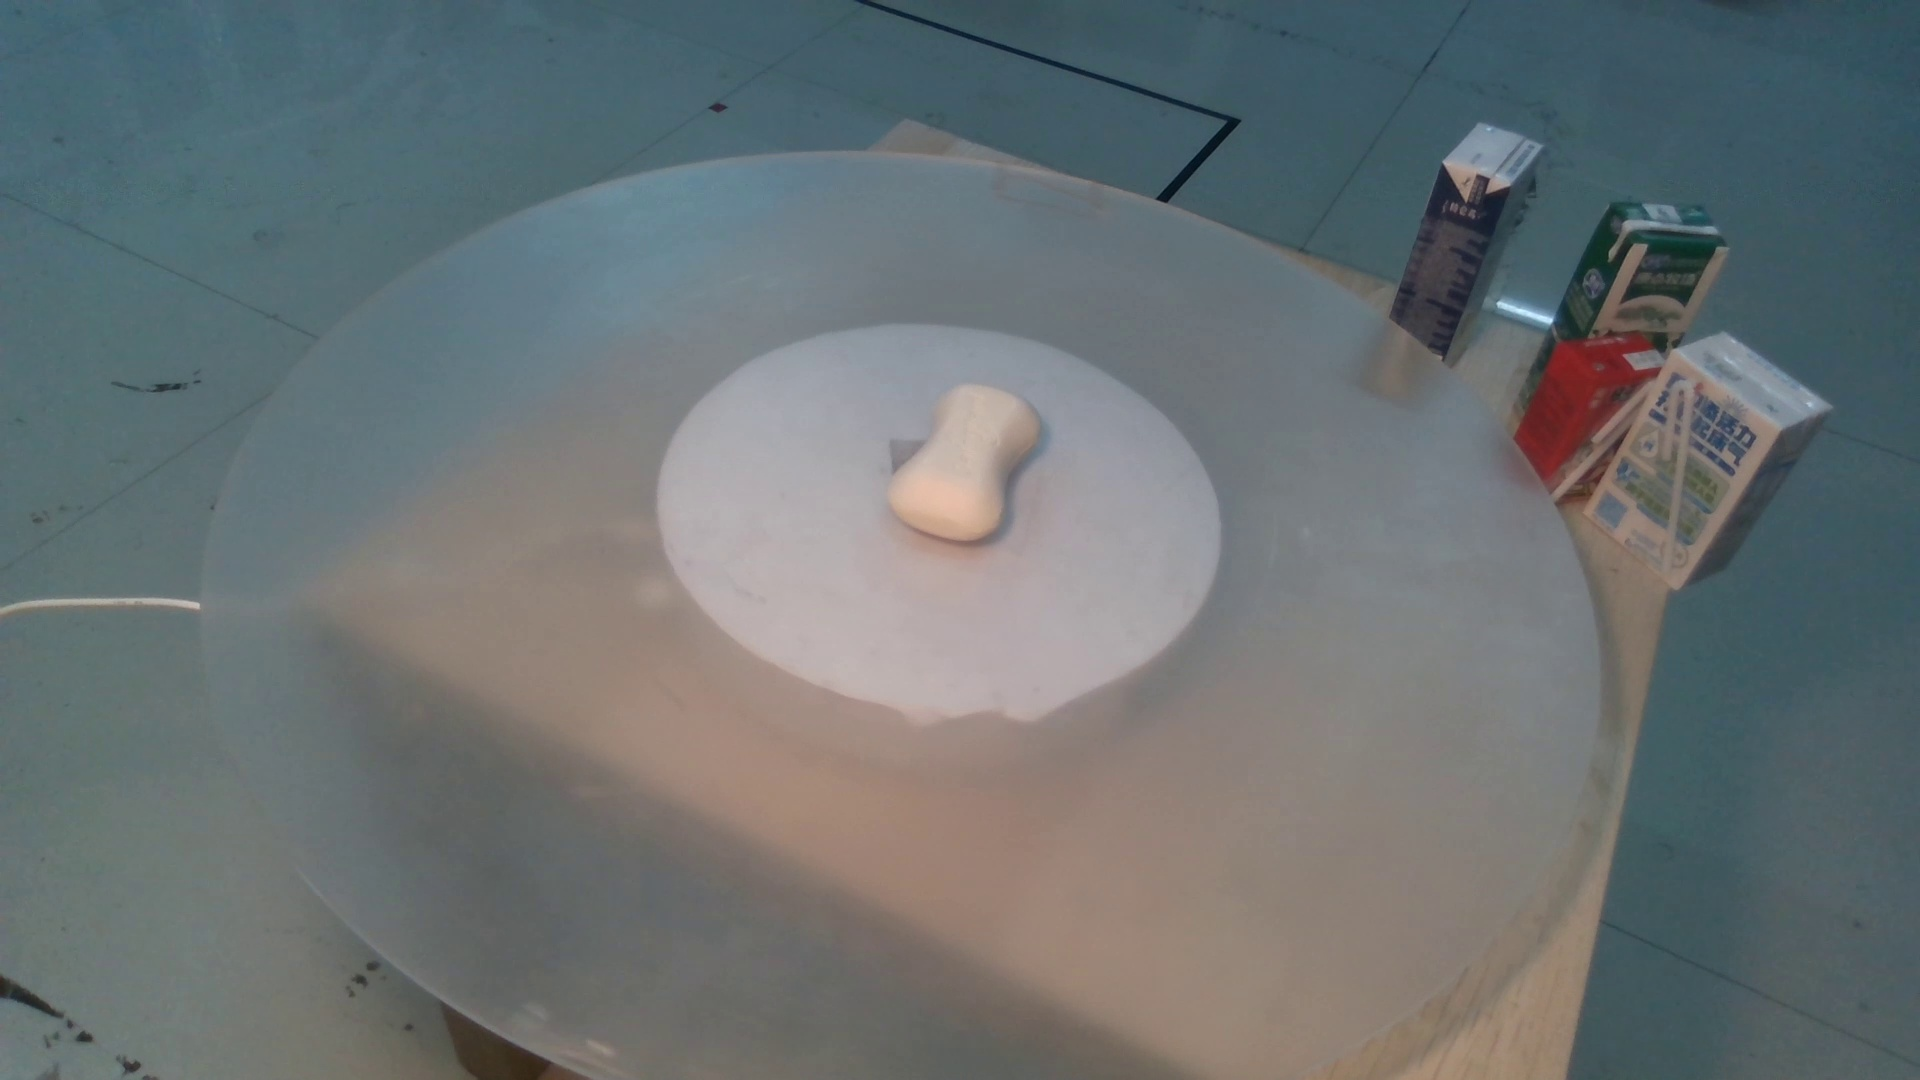CA003_1: (843, 357, 1073, 549)
